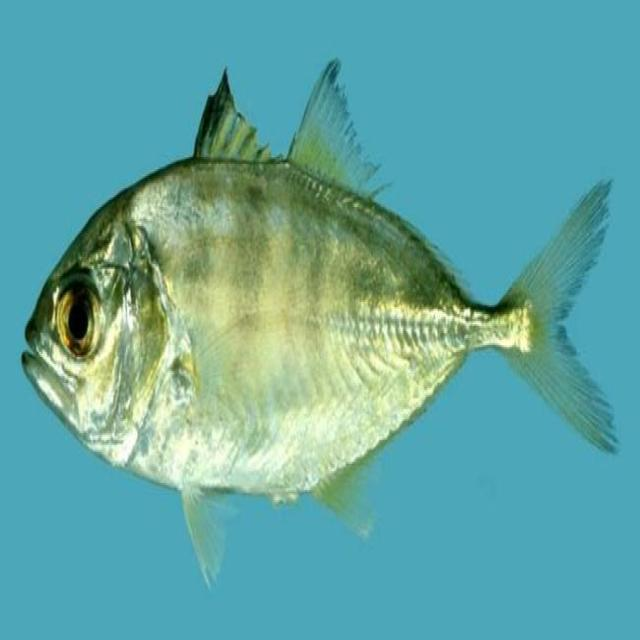ikan: (15, 44, 623, 612)
